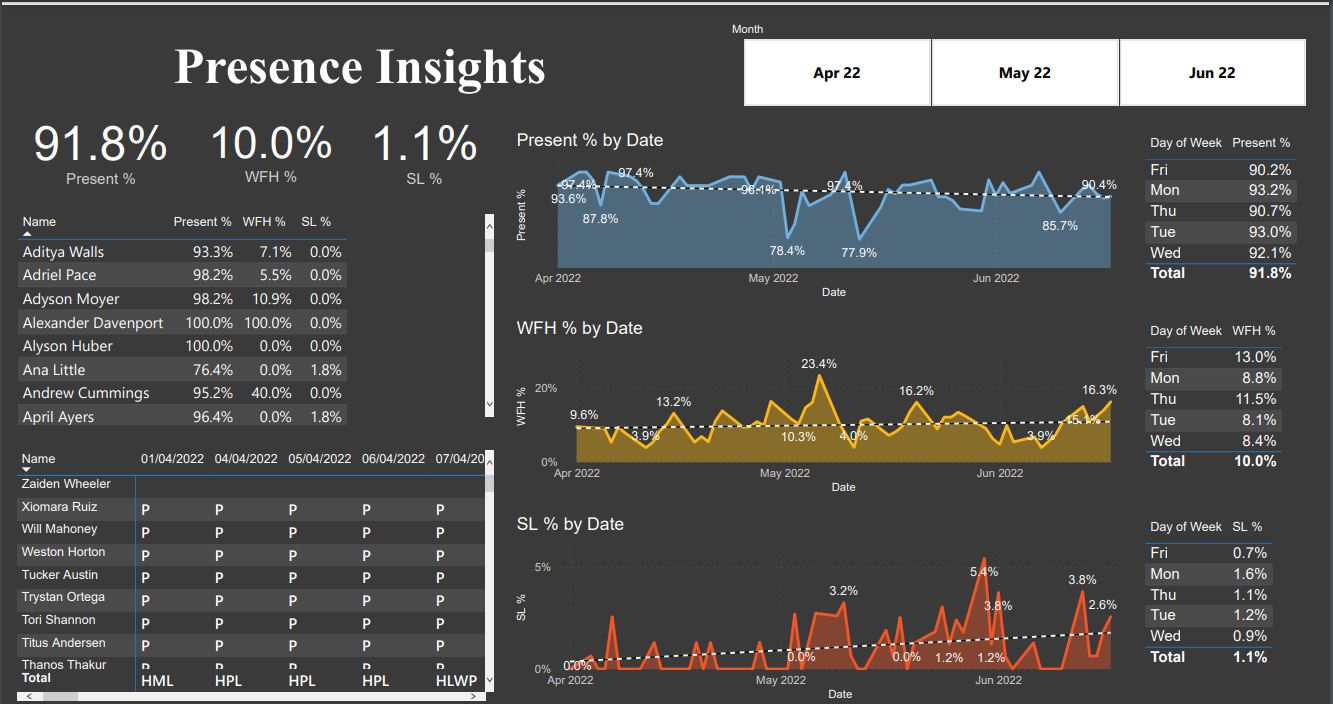

The dashboard page shown, as its layout file describes it:
{"tool":"powerbi","page":{"name":"Page 1","canvas":[1406,741],"ordinal":0},"visuals":[{"type":"card","fields":{"Values":["Measures Table.Present %"]},"box":[11.7,101.6,188.2,98.2],"z":0},{"type":"slicer","fields":{"Values":["Final Data.Month"]},"box":[761.8,13.3,643.7,71.5],"z":1000},{"type":"card","fields":{"Values":["Measures Table.WFH %"]},"box":[199.8,101.6,171.5,98.2],"z":2000},{"type":"card","fields":{"Values":["Measures Table.SL %"]},"box":[371.3,101.6,154.9,98.2],"z":3000},{"type":"tableEx","title":"Employee Data","fields":{"Values":["Final Data.Name","Measures Table.Present %","Measures Table.WFH %","Measures Table.SL %"]},"box":[11.7,216.5,514.5,233.1],"z":4000},{"type":"pivotTable","title":"Employee name by Status of each day","fields":{"Rows":["Final Data.Name"],"Values":["Min(Final Data.Value)"],"Columns":["Final Data.Date"]},"box":[11.6,449.1,513.9,292.7],"z":5000},{"type":"areaChart","fields":{"Category":["Final Data.Date"],"Y":["Measures Table.Present %"]},"box":[541.2,131.5,664.4,183.2],"z":6000},{"type":"areaChart","title":"Work From Home % by Date","fields":{"Category":["Final Data.Date"],"Y":["Measures Table.WFH %"]},"box":[541.2,331.4,664.4,191.5],"z":7000},{"type":"areaChart","title":"Seek leave % by Date","fields":{"Category":["Final Data.Date"],"Y":["Measures Table.SL %"]},"box":[541.2,537.8,664.4,203.2],"z":8000},{"type":"tableEx","fields":{"Values":["Final Data.Day of Week","Measures Table.Present %"]},"box":[1205.6,131.5,199.8,183.2],"z":9000},{"type":"tableEx","fields":{"Values":["Final Data.Day of Week","Measures Table.WFH %"]},"box":[1205.6,331.4,199.8,189.8],"z":10000},{"type":"tableEx","fields":{"Values":["Final Data.Day of Week","Measures Table.SL %"]},"box":[1205.6,537.8,199.8,203.2],"z":11000},{"type":"textbox","box":[11.7,13.3,736,88.3],"z":12000}]}

Visuals, with their boxes in screenshot pixels (x1, y1, x2, y2), scaled from the page's 1406x741 canvas onto the 1333x704 screenshot:
card - Measures Table.Present %: 11 97 190 190
slicer - Final Data.Month: 722 13 1332 81
card - Measures Table.WFH %: 189 97 352 190
card - Measures Table.SL %: 352 97 499 190
"Employee Data" tableEx: 11 206 499 427
"Employee name by Status of each day" pivotTable: 11 427 498 703
areaChart - Final Data.Date x Measures Table.Present %: 513 125 1143 299
"Work From Home % by Date" areaChart: 513 315 1143 497
"Seek leave % by Date" areaChart: 513 511 1143 703
tableEx - Final Data.Day of Week x Measures Table.Present %: 1143 125 1332 299
tableEx - Final Data.Day of Week x Measures Table.WFH %: 1143 315 1332 495
tableEx - Final Data.Day of Week x Measures Table.SL %: 1143 511 1332 703
textbox: 11 13 709 97
